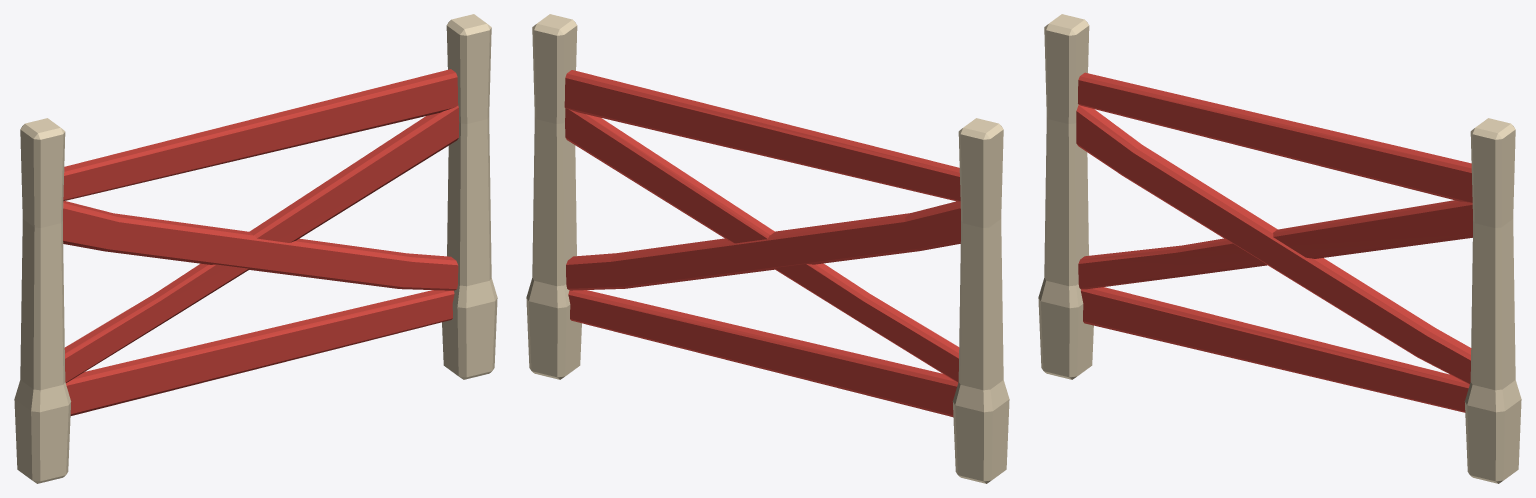
File: fence_e.gltf
3 views of the same model, side by side, from view 1: azimuth 30°, elevation 25°; view 2: azimuth 150°, elevation 25°; view 3: azimuth 330°, elevation 25° (orthographic).
Parts seen in each view (by area): view 1: fence_e001; view 2: fence_e001; view 3: fence_e001.
Boxes of the visible parts, <box> form: fence_e001: <box>14,14,497,483</box>; fence_e001: <box>526,14,1009,483</box>; fence_e001: <box>1038,14,1521,483</box>.
Bounding box in the file's own units: 1.17 × 0.8402 × 0.1008.
Materials: 1 (1 with a texture image).
